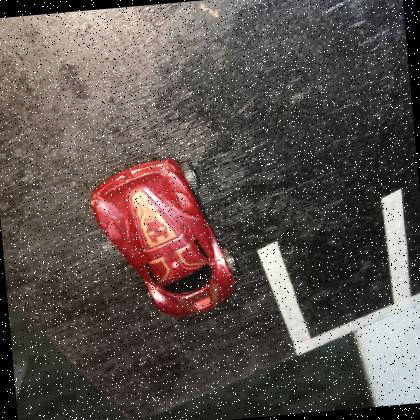Car: (89, 155, 236, 316)
